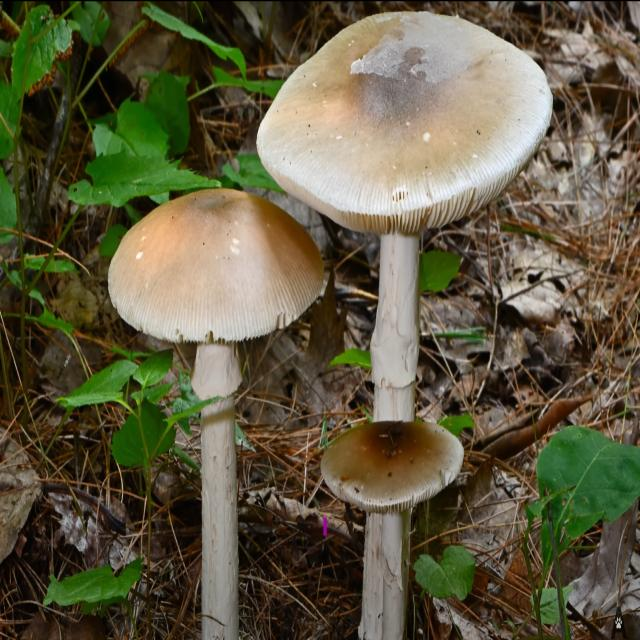death-cap: (255, 12, 554, 425), (107, 189, 325, 640), (320, 421, 464, 636)
